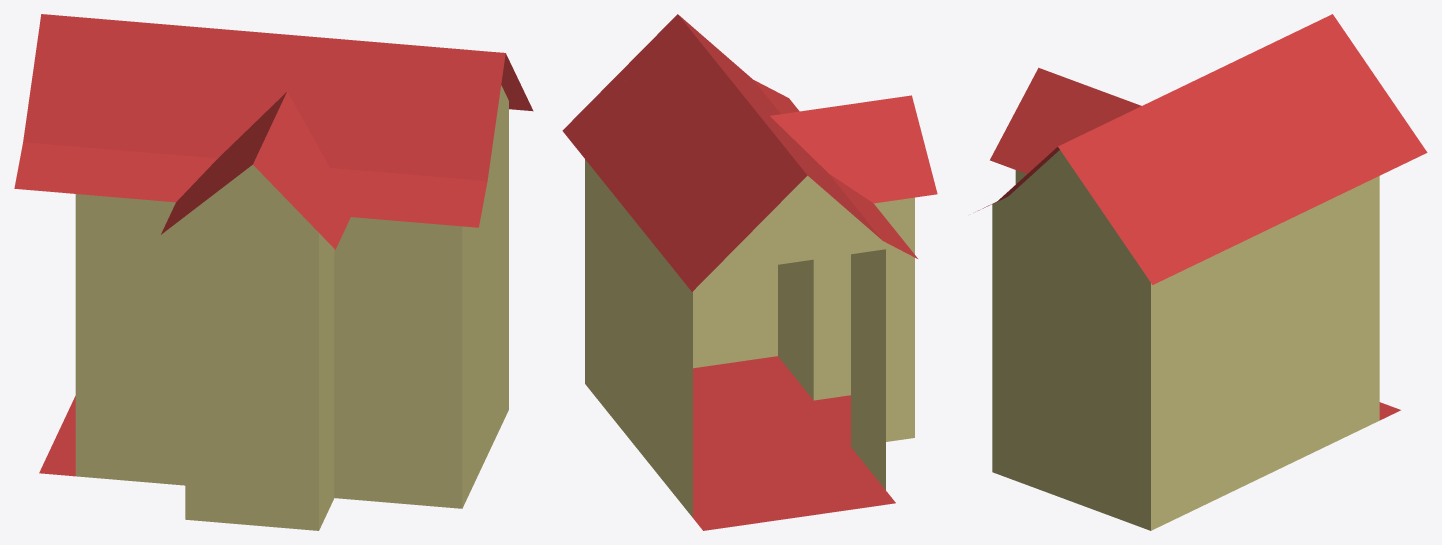
3 views of the same model, side by side, from view 1: azimuth 30°, elevation 25°; view 2: azimuth 150°, elevation 25°; view 3: azimuth 270°, elevation 25° (orthographic). The views are drawn at different scales.
Size of the model in its own units: 19.38 by 18.74 by 16.16.
